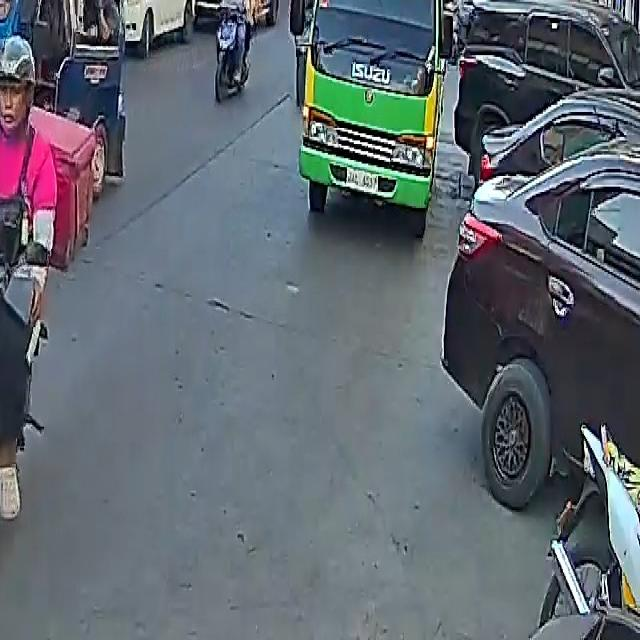car: (444, 149, 640, 510), (454, 0, 640, 176), (109, 0, 201, 53), (196, 0, 282, 30)
